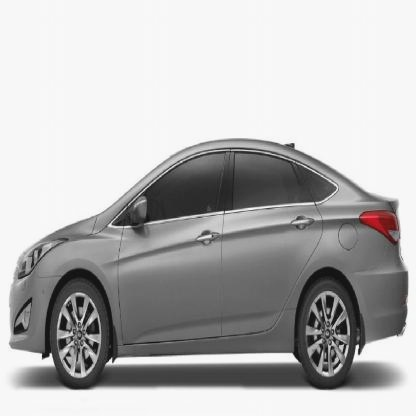Vehicle: (8, 137, 412, 392)
